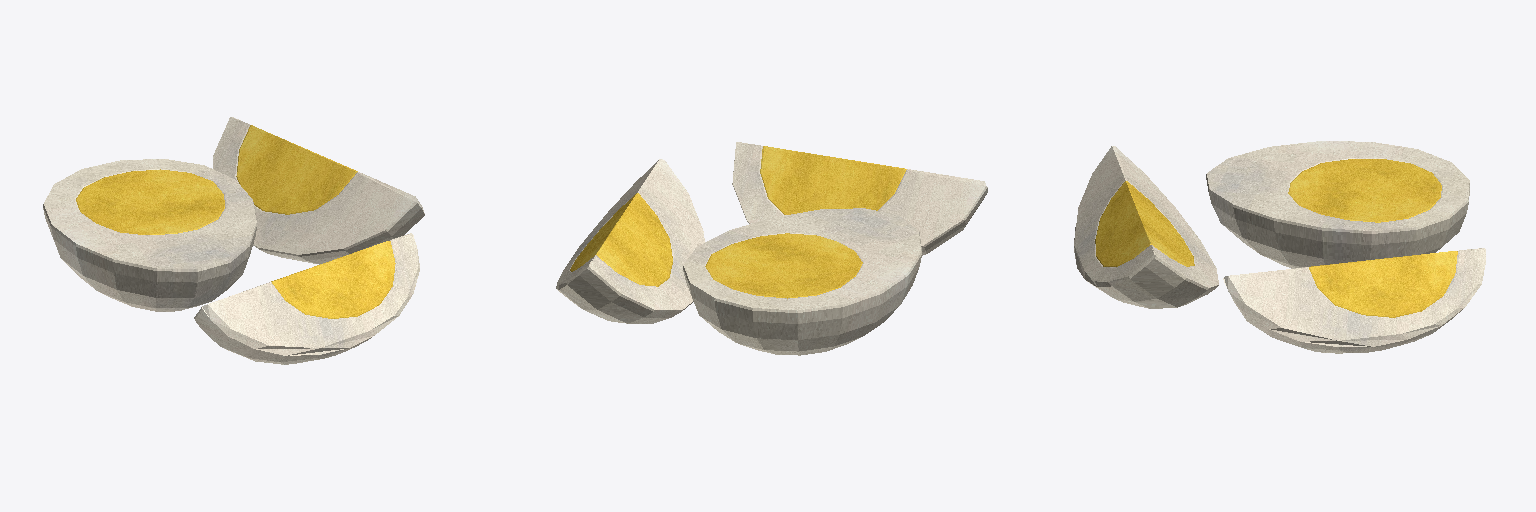
The picture shows the model from 3 angles: view 1: azimuth 30°, elevation 25°; view 2: azimuth 150°, elevation 25°; view 3: azimuth 270°, elevation 25°; orthographic projection.
Bounding box in the file's own units: 0.6837 × 0.1879 × 0.7596.
2 materials, 1 textured.